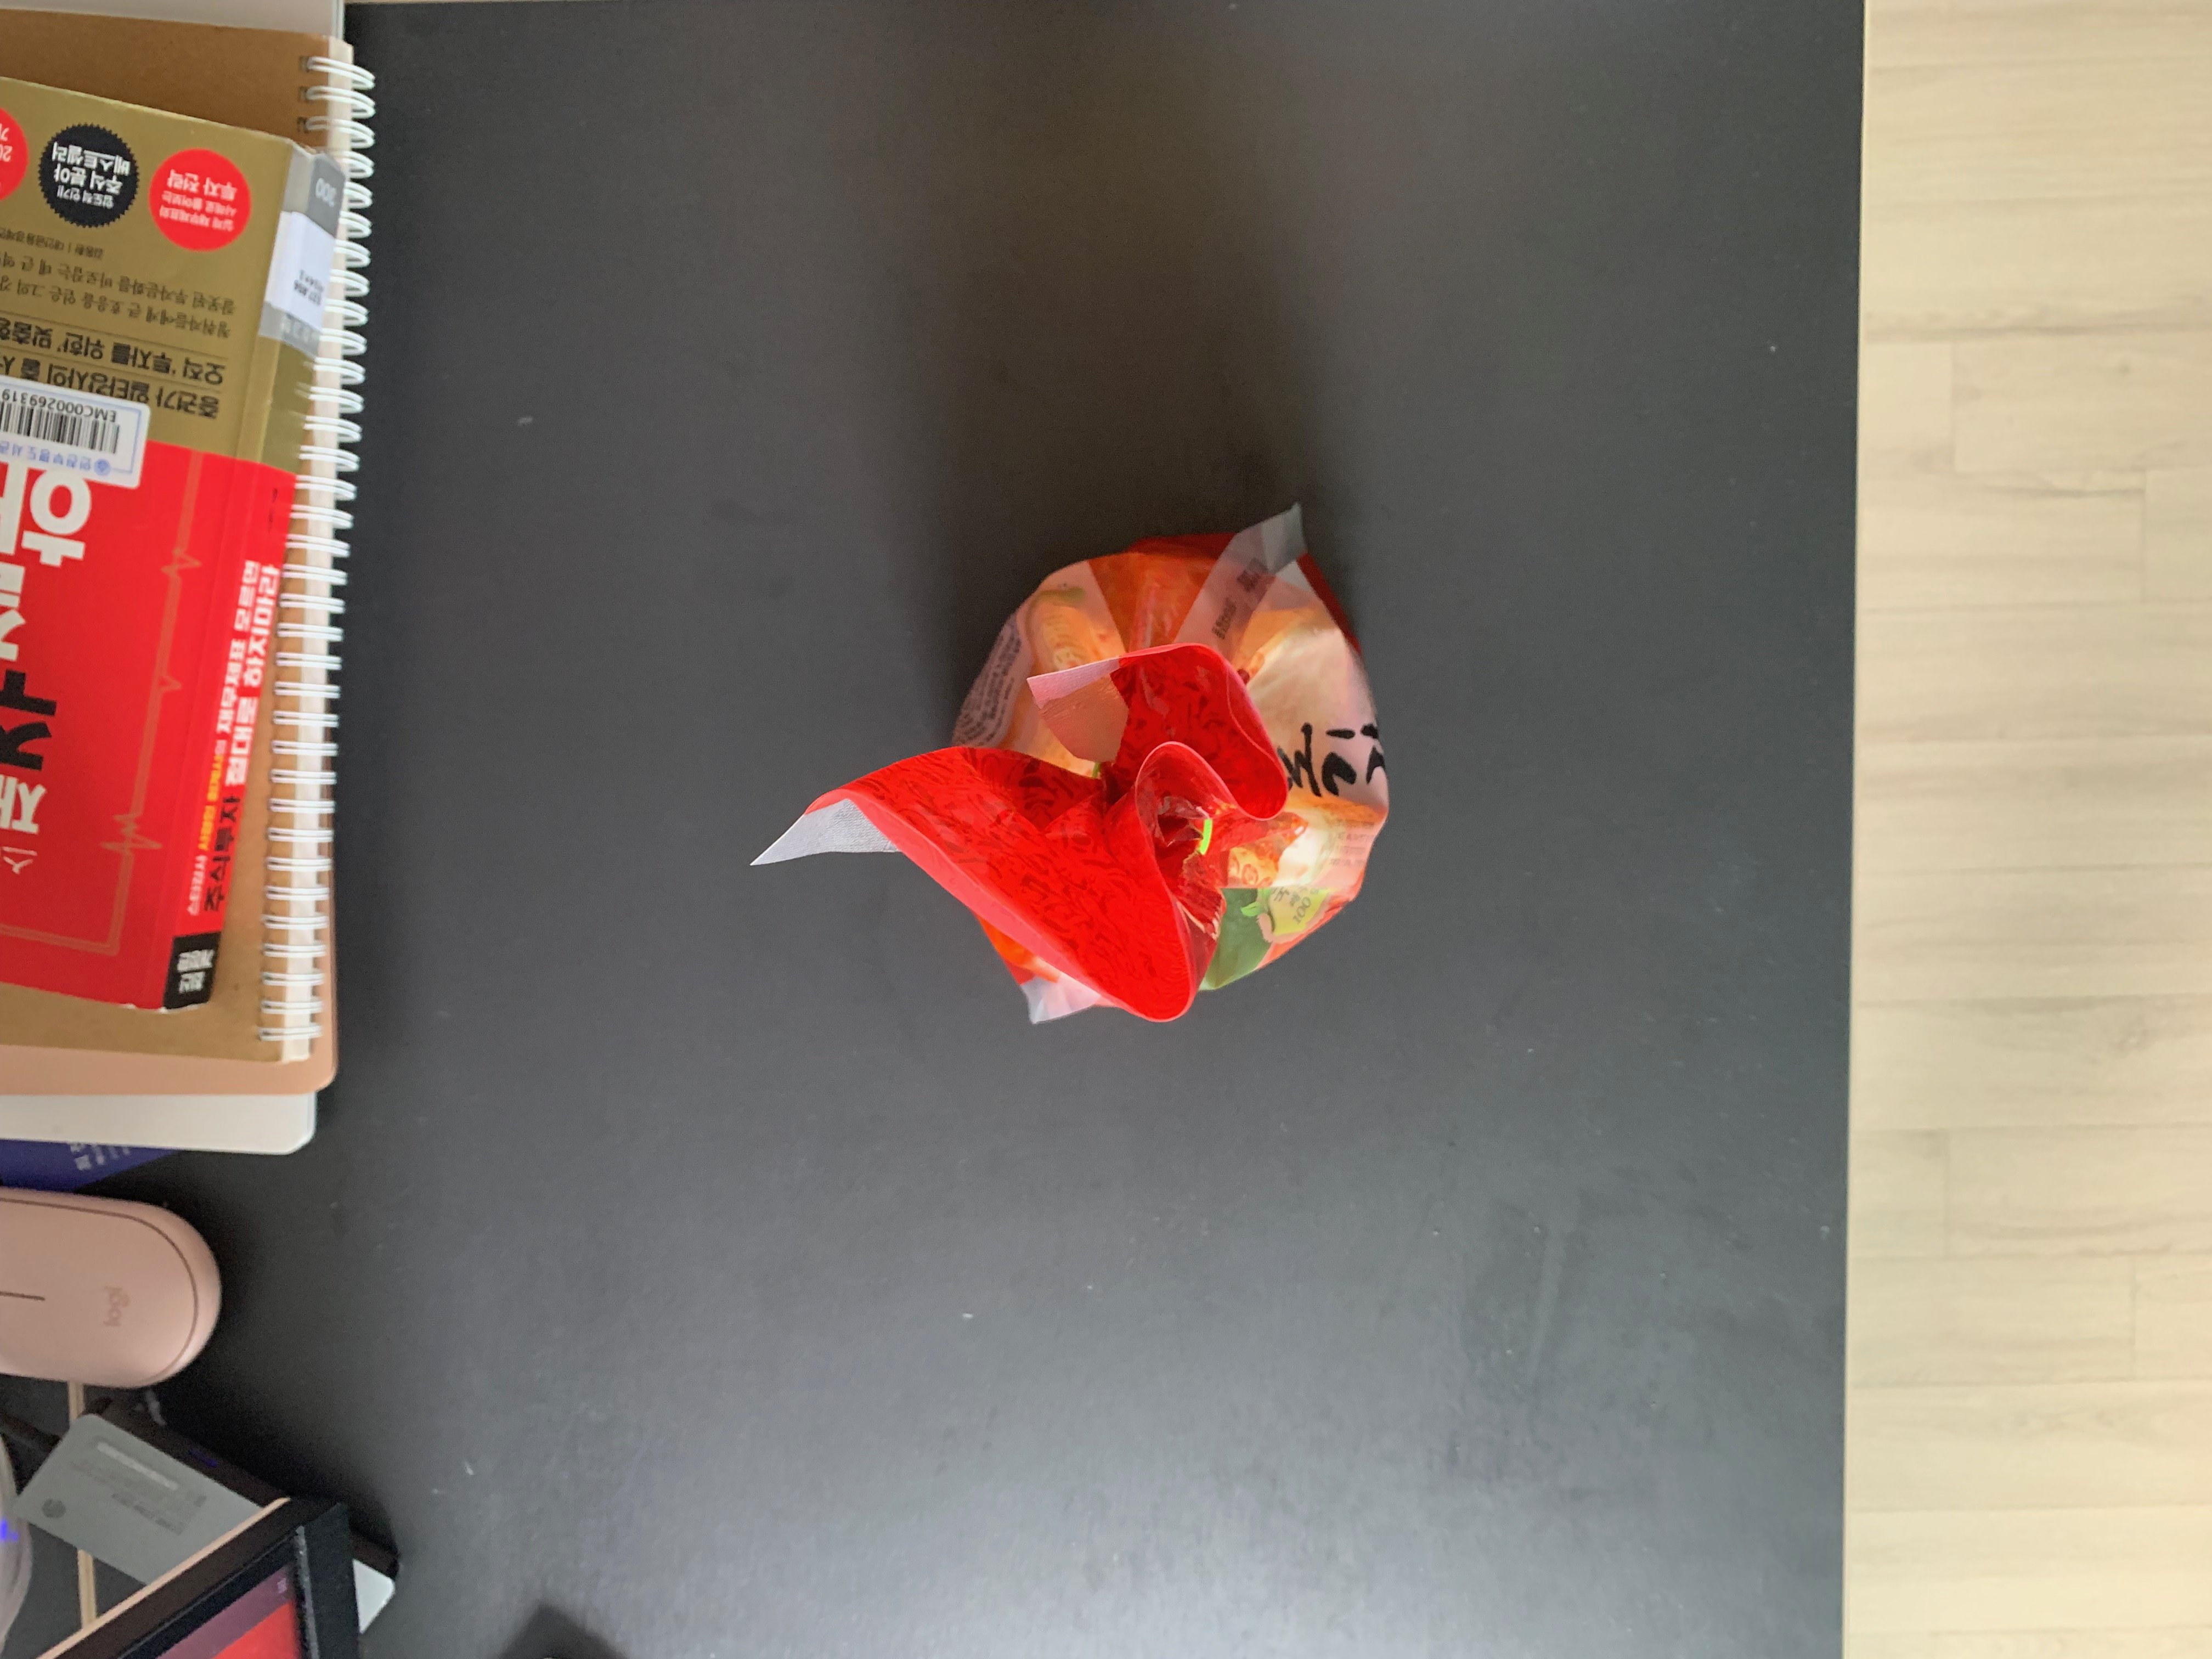kimchi: (855, 532, 1392, 1025)
